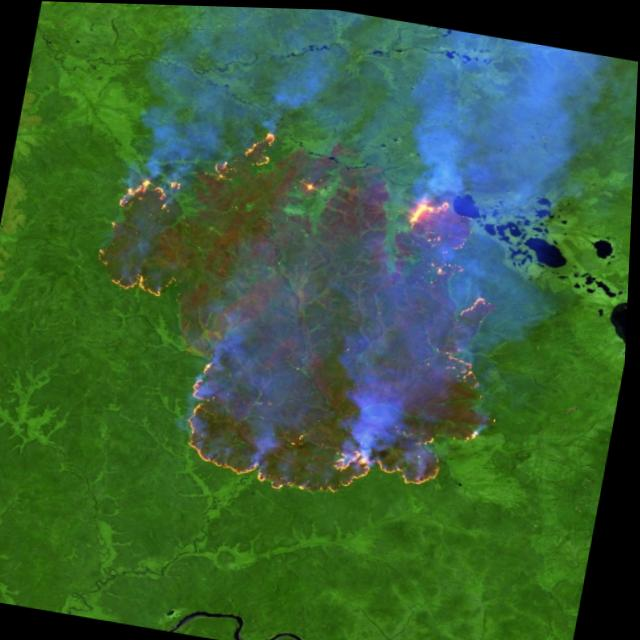fire: (51, 100, 544, 531)
